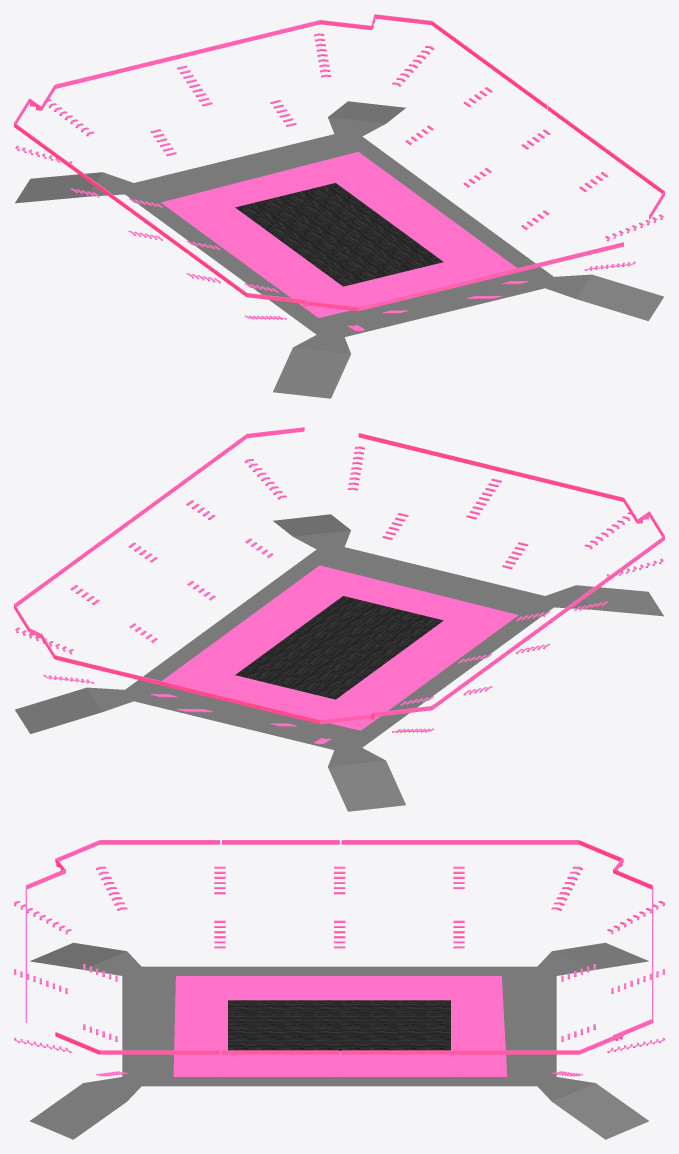
The model's file is CombinedMesh-MeshBaker 6.fbx.
3 views of the same model, one above another, from view 1: azimuth 30°, elevation 25°; view 2: azimuth 150°, elevation 25°; view 3: azimuth 270°, elevation 25° (orthographic). The views are drawn at different scales.
Parts seen in each view (by area): view 1: FLoor; view 2: FLoor; view 3: FLoor.
Boxes of the visible parts, x1=… form: FLoor: x1=14, y1=14, x2=664, y2=398; FLoor: x1=14, y1=427, x2=664, y2=811; FLoor: x1=14, y1=840, x2=664, y2=1139.
Size of the model in its own units: 6667 by 1414 by 8709.
